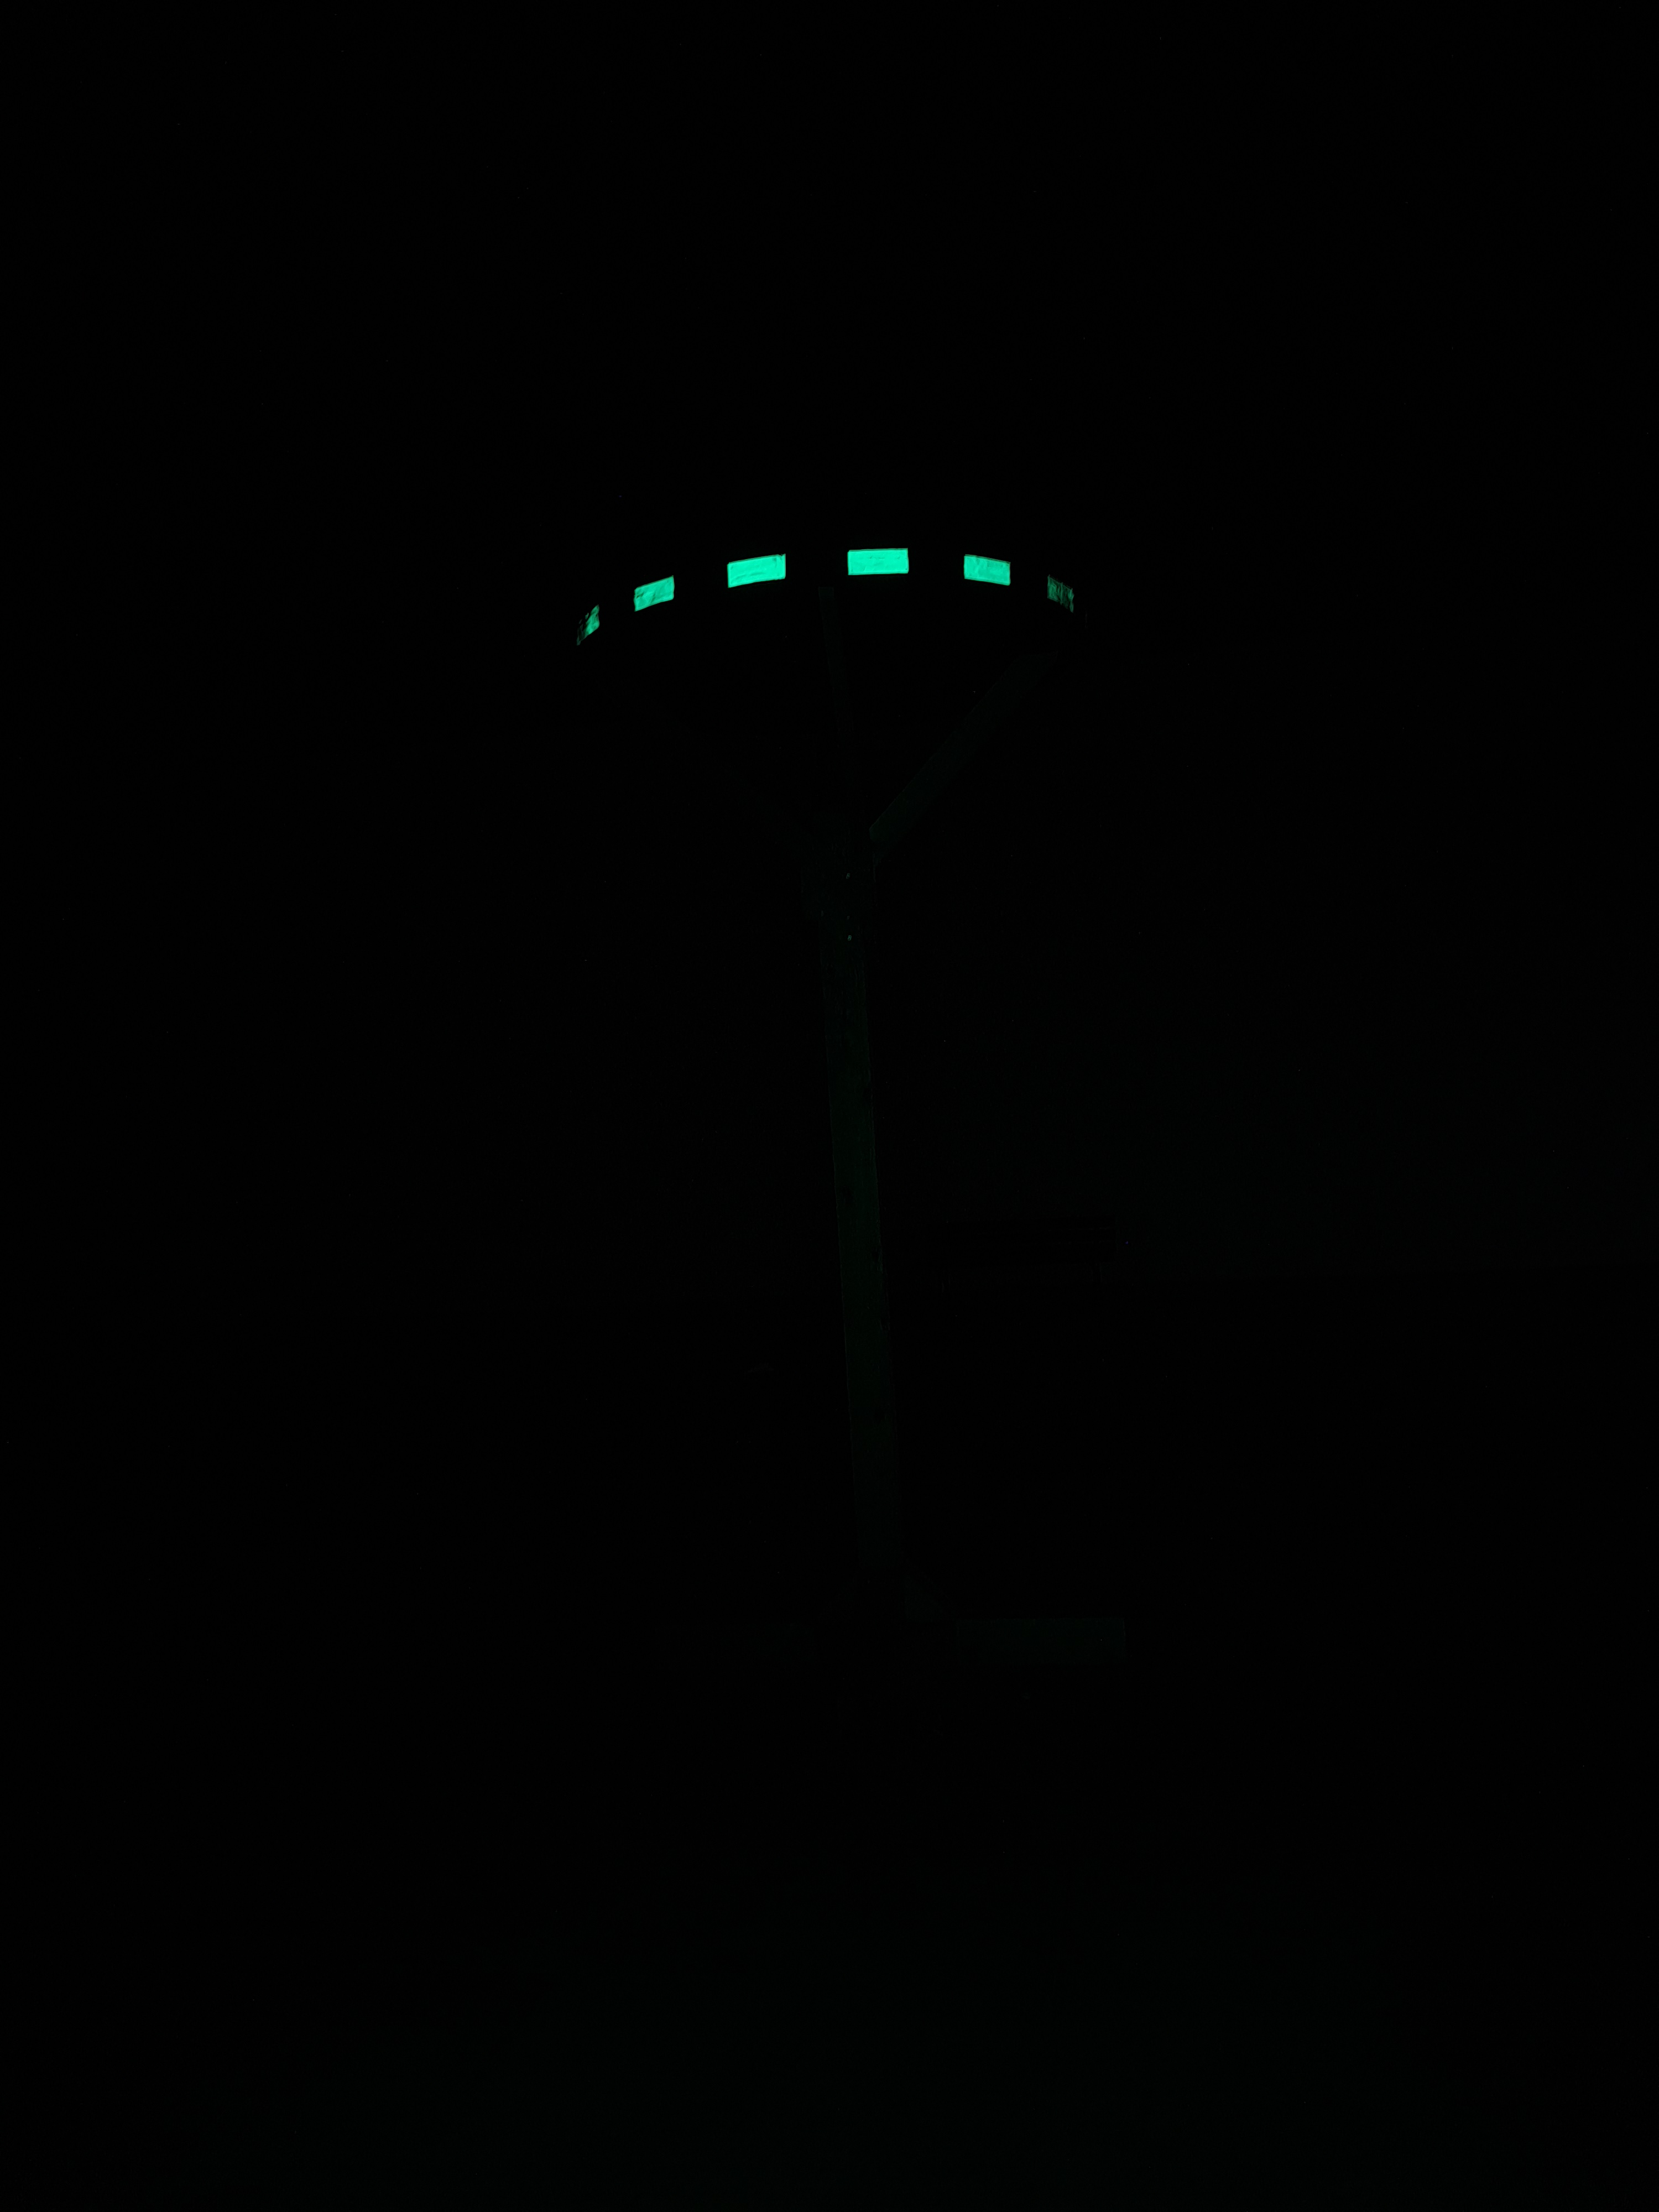hoop: (559, 547, 1086, 646)
